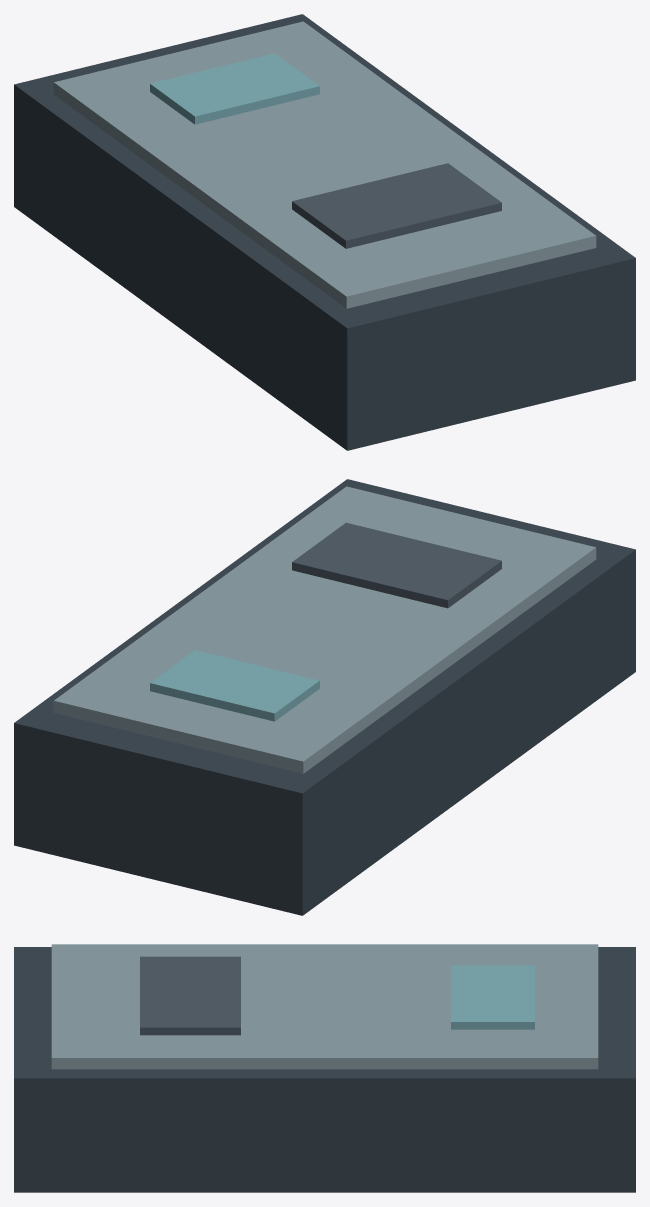
Rendered from tecnologia_phone.glb.
3 views of the same model, one above another, from view 1: azimuth 30°, elevation 25°; view 2: azimuth 150°, elevation 25°; view 3: azimuth 270°, elevation 25° (orthographic). The views are drawn at different scales.
Size of the model in its own units: 0.37 by 0.177 by 0.74.
